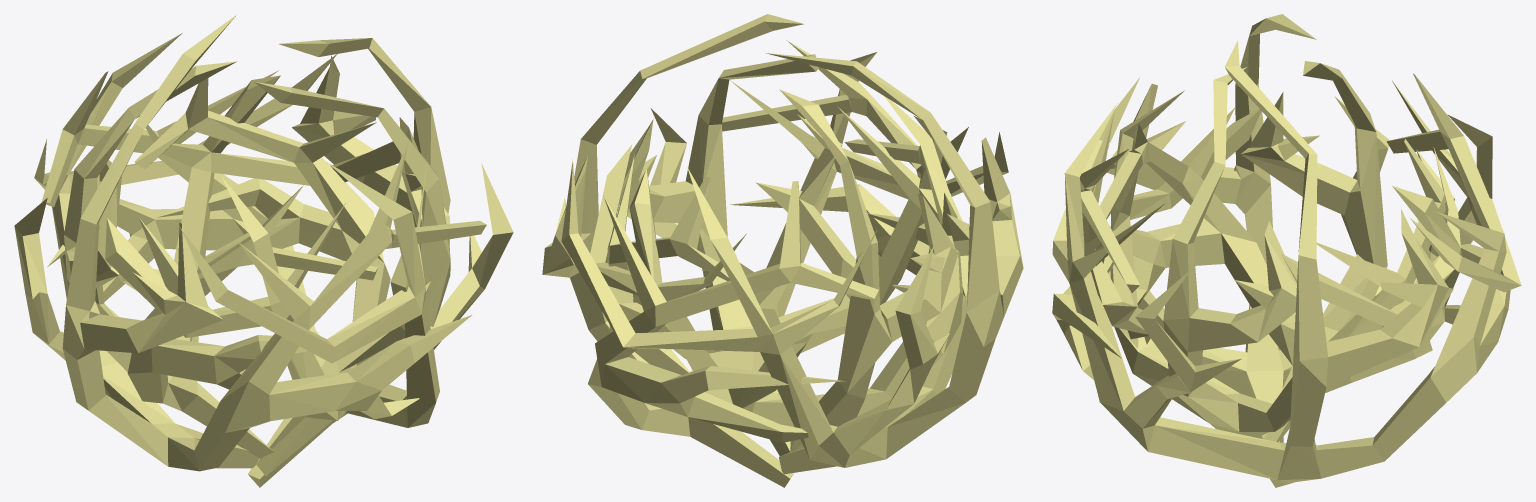
The model's file is tumbleweed_1.fbx.
3 renders of one model, left to right at view 1: azimuth 30°, elevation 25°; view 2: azimuth 150°, elevation 25°; view 3: azimuth 270°, elevation 25°, orthographic. The views are drawn at different scales.
Parts seen in each view (by area): view 1: tumbleweed; view 2: tumbleweed; view 3: tumbleweed.
Boxes of the visible parts, <box> form: tumbleweed: <box>14,14,513,487</box>; tumbleweed: <box>542,14,1023,487</box>; tumbleweed: <box>1052,14,1521,487</box>.
Bounding box in the file's own units: 195 × 208 × 198.
